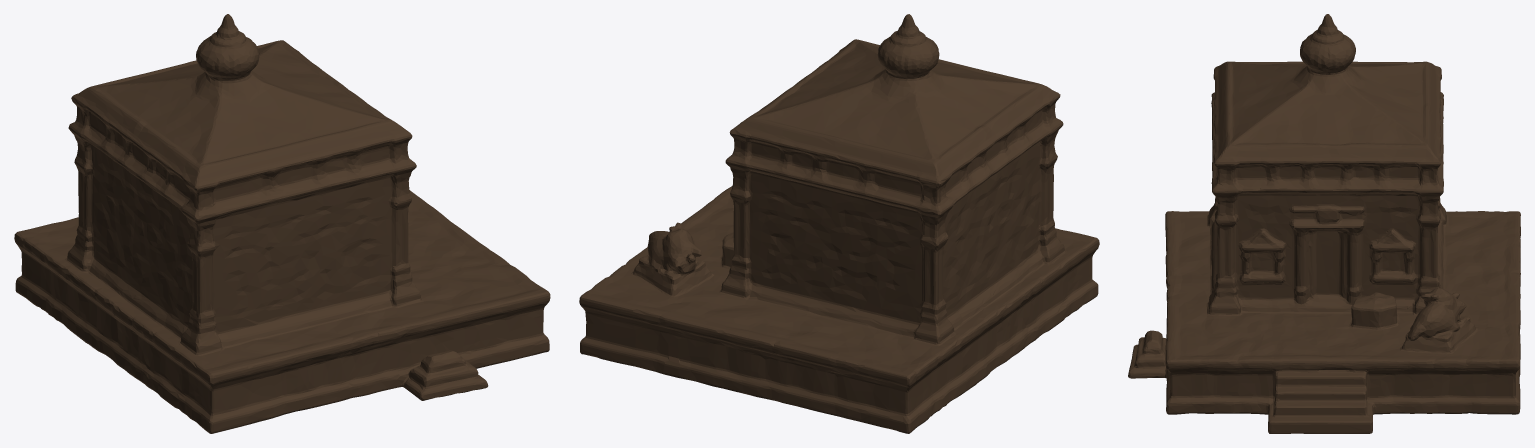
File: Wadeshwar_Temple_colour_final.glb
The picture shows the model from 3 angles, left to right: view 1: azimuth 30°, elevation 25°; view 2: azimuth 150°, elevation 25°; view 3: azimuth 270°, elevation 25°; orthographic projection. The views are drawn at different scales.
Visible parts, largest first — view 1: tmpip9i12ks.ply; view 2: tmpip9i12ks.ply; view 3: tmpip9i12ks.ply.
Boxes of the visible parts, bbox=[...] form: tmpip9i12ks.ply: bbox=[14, 14, 550, 433]; tmpip9i12ks.ply: bbox=[579, 14, 1099, 433]; tmpip9i12ks.ply: bbox=[1128, 14, 1520, 433].
Bounding box in the file's own units: 1.96 × 1.61 × 1.92.
